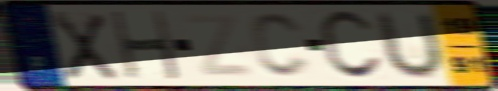C: (315, 8, 386, 83), (248, 10, 314, 81)
H: (108, 9, 184, 82)
U: (375, 9, 447, 82)
X: (48, 9, 120, 82)
Z: (181, 11, 257, 79)
